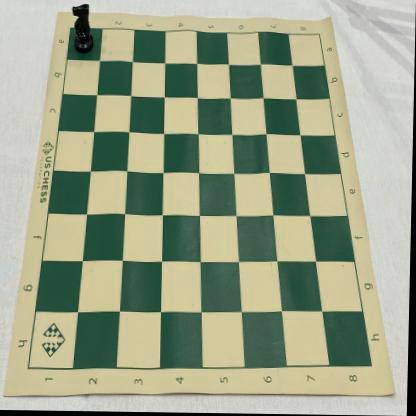black-knight: (72, 4, 96, 54)
